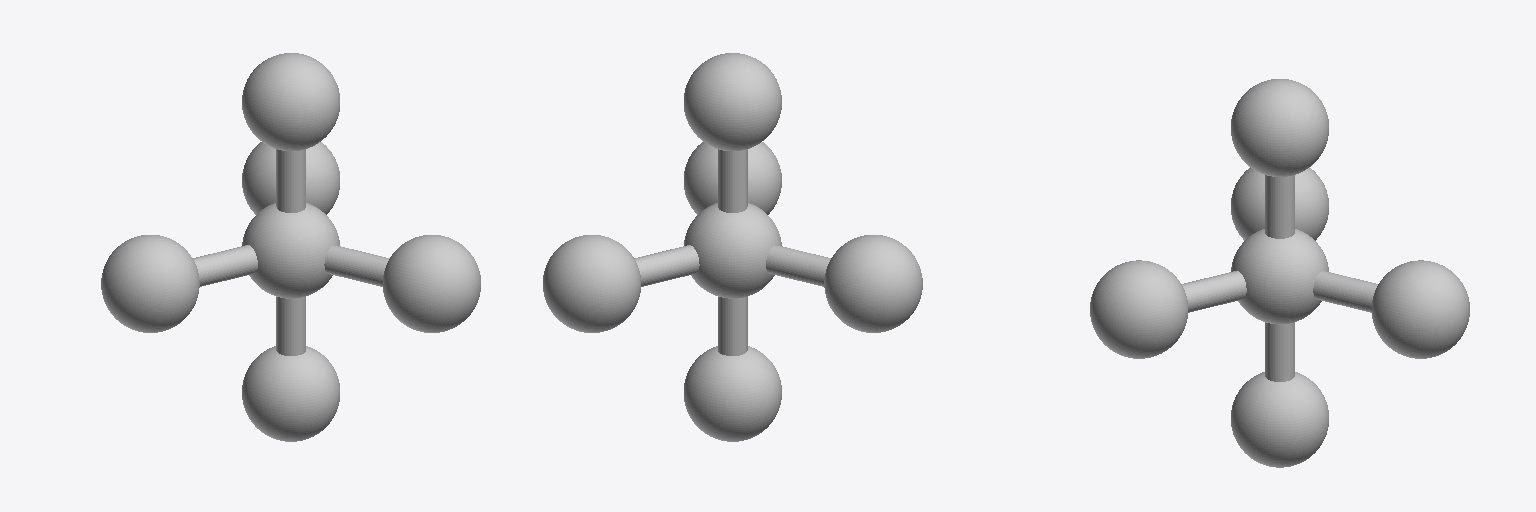
3 renders of one model, left to right at view 1: azimuth 30°, elevation 25°; view 2: azimuth 150°, elevation 25°; view 3: azimuth 270°, elevation 25°, orthographic.
Visible parts, largest first — view 1: group_6_ID85, group_10_ID137, group_2_ID33, group_4_ID59, group_0_ID3, group_8_ID111, group_1.002_ID26, group_9.002_ID130, group_5.002_ID78, group_3_ID40, group_1_ID12, group_9_ID118 (+2 smaller); view 2: group_6_ID85, group_8_ID111, group_2_ID33, group_4_ID59, group_0_ID3, group_10_ID137, group_1.002_ID26, group_7.002_ID104, group_5.002_ID78, group_3_ID40, group_1_ID12, group_7_ID92 (+2 smaller); view 3: group_10_ID137, group_8_ID111, group_2_ID33, group_4_ID59, group_0_ID3, group_6_ID85, group_1.002_ID26, group_9.002_ID130, group_7.002_ID104, group_3_ID40, group_1_ID12, group_9_ID118 (+2 smaller).
Boxes of the visible parts, box(x1,y1,x2,y2) form: group_6_ID85: box(101, 235, 199, 332); group_10_ID137: box(383, 235, 480, 332); group_2_ID33: box(242, 53, 339, 150); group_4_ID59: box(242, 346, 339, 441); group_0_ID3: box(242, 203, 339, 298); group_8_ID111: box(242, 142, 339, 214); group_1.002_ID26: box(276, 173, 305, 212); group_9.002_ID130: box(324, 245, 365, 281); group_5.002_ID78: box(216, 245, 257, 280); group_3_ID40: box(276, 297, 305, 331); group_1_ID12: box(276, 149, 305, 177); group_9_ID118: box(358, 253, 389, 286); group_6_ID85: box(824, 235, 922, 332); group_8_ID111: box(543, 235, 640, 332); group_2_ID33: box(684, 53, 781, 150); group_4_ID59: box(684, 346, 781, 441); group_0_ID3: box(684, 203, 781, 298); group_10_ID137: box(684, 142, 781, 214); group_1.002_ID26: box(718, 173, 747, 212); group_7.002_ID104: box(658, 245, 699, 281); group_5.002_ID78: box(766, 245, 807, 280); group_3_ID40: box(718, 297, 747, 331); group_1_ID12: box(718, 149, 747, 177); group_7_ID92: box(634, 253, 665, 286); group_10_ID137: box(1090, 260, 1187, 358); group_8_ID111: box(1372, 260, 1469, 358); group_2_ID33: box(1231, 79, 1328, 176); group_4_ID59: box(1231, 372, 1328, 467); group_0_ID3: box(1231, 229, 1328, 324); group_6_ID85: box(1231, 167, 1328, 240); group_1.002_ID26: box(1265, 199, 1294, 238); group_9.002_ID130: box(1204, 271, 1246, 306); group_7.002_ID104: box(1313, 271, 1355, 306); group_3_ID40: box(1265, 322, 1294, 357); group_1_ID12: box(1265, 175, 1294, 203); group_9_ID118: box(1182, 279, 1212, 312).
Bounding box in the file's own units: 6.95 × 8.51 × 7.72.